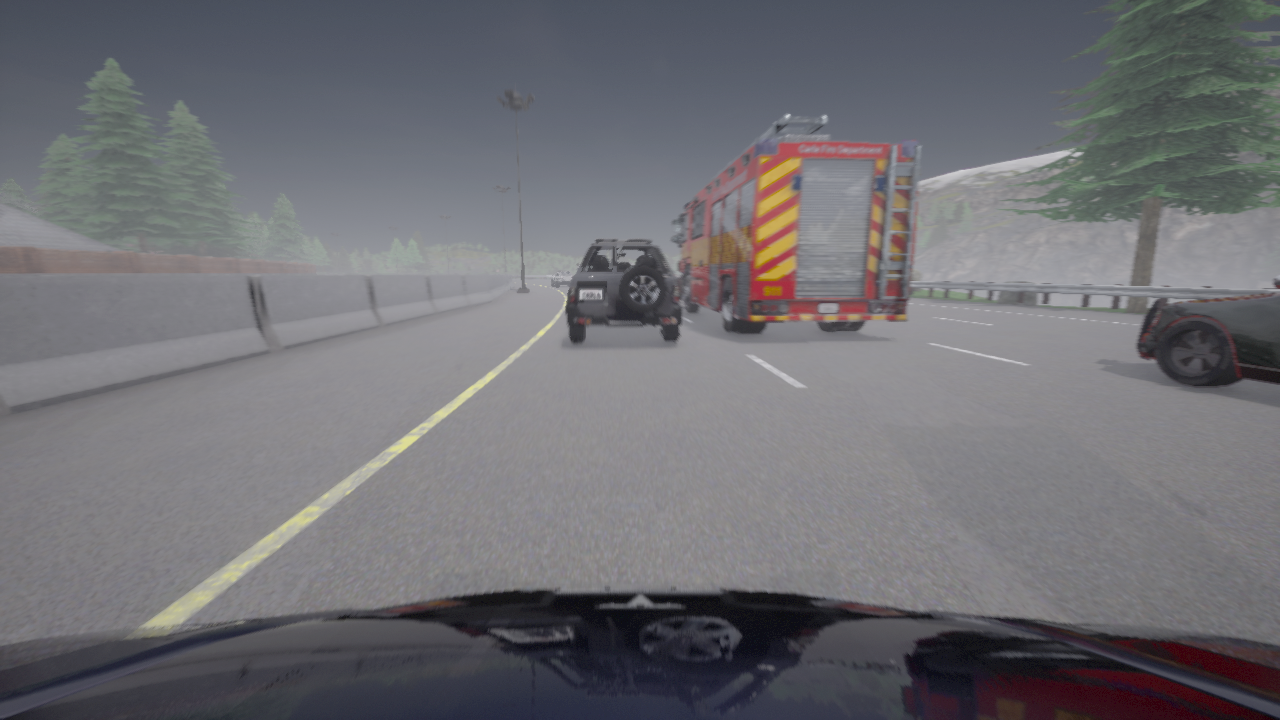cyclist: (0, 588, 1279, 719), (672, 115, 920, 333), (1136, 274, 1279, 386), (565, 239, 682, 342), (552, 271, 573, 286), (669, 269, 675, 277)
